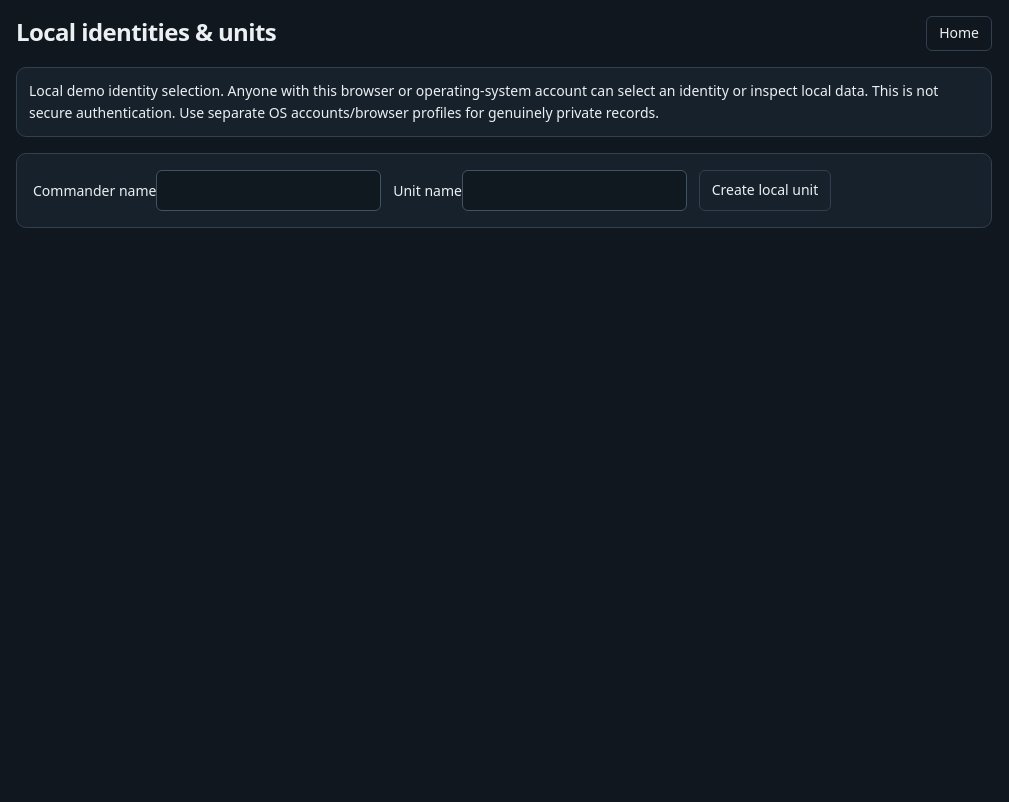
Test case: local role workflows › sets up a persistent unit and labels the identity selector honestly
The width and height of the screenshot is (1009, 802).
Expected: the button "Create local unit" is shown, [699,170,831,211]
Step 1. Type "Local Commander" into the field labelled "Commander name" → [269, 190], box [156,170,381,211]
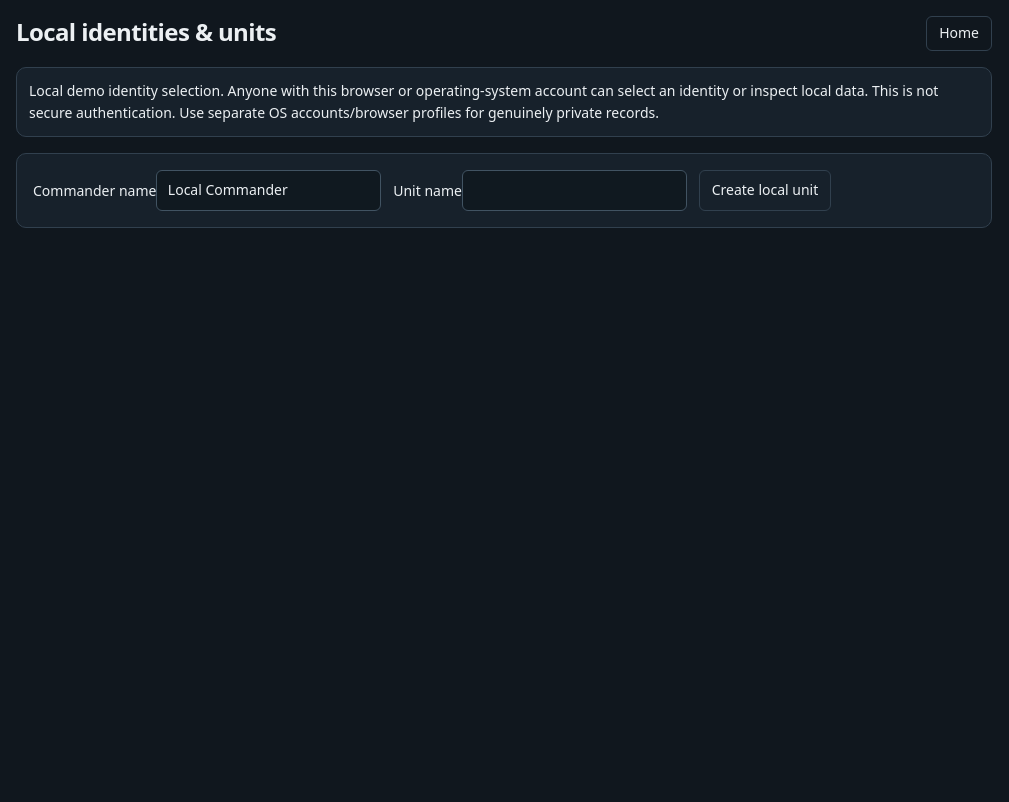
Step 2. Type "Training Unit" into the field labelled "Unit name" → [574, 190], box [462,170,687,211]
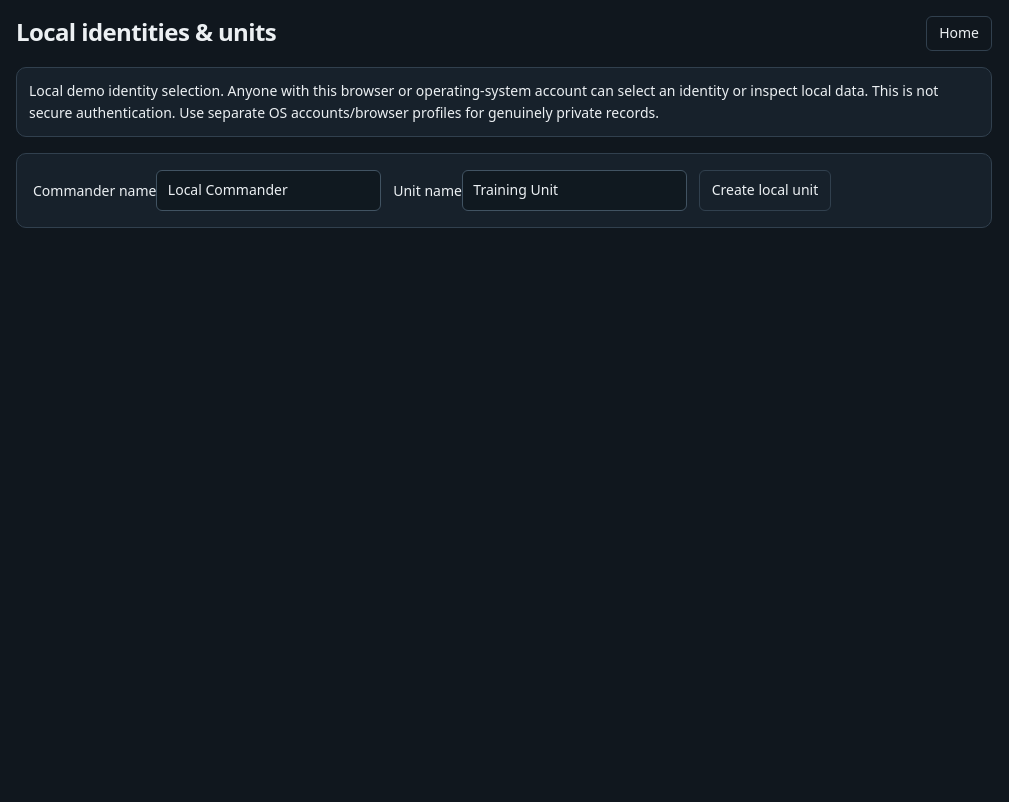
Step 3. Click the button "Create local unit" → [765, 190], box [699,170,831,211]
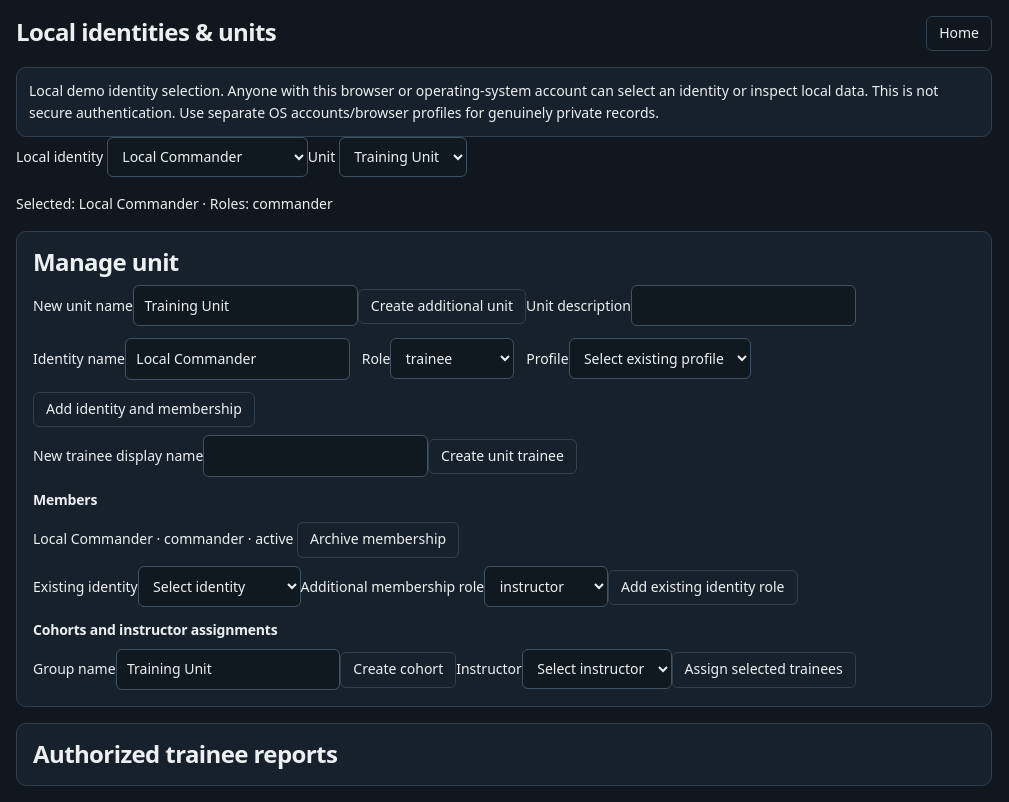
Expected: the text "This is not secure authentication." is shown, [29,81,938,122]
Now the text "Selected: Local Commander" is shown, box [16,194,333,213]
